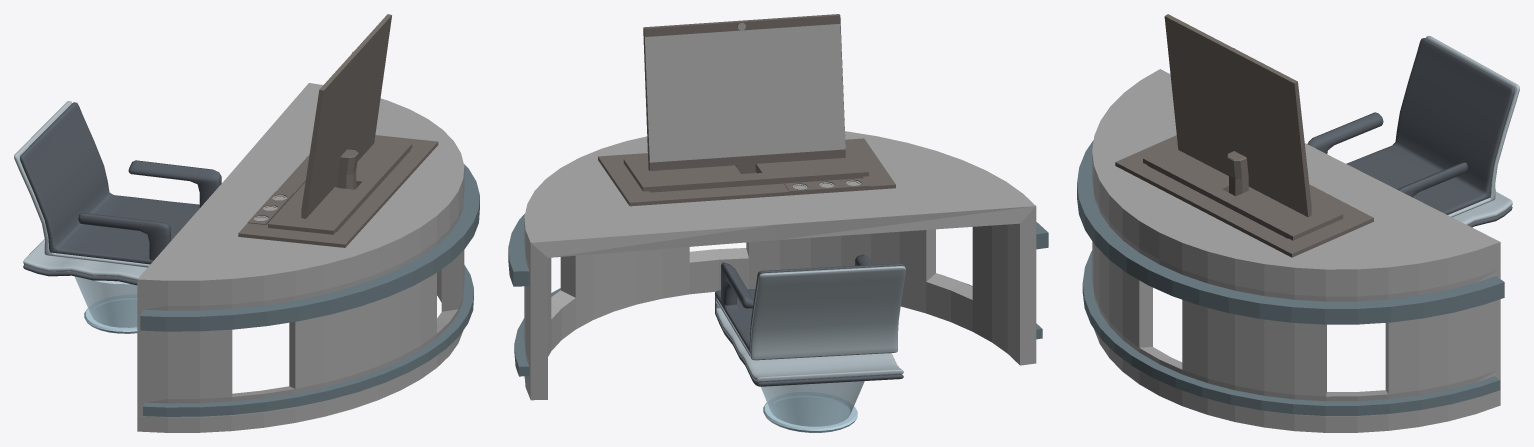
Rendered from table.fbx.
The picture shows the model from 3 angles, left to right: view 1: azimuth 30°, elevation 25°; view 2: azimuth 150°, elevation 25°; view 3: azimuth 270°, elevation 25°; orthographic projection. The views are drawn at different scales.
Visible parts, largest first — view 1: pCylinder16, polySurface5, pCube37, pCube36, pCube38, polySurface4, pCylinder17; view 2: pCylinder16, pCube37, polySurface4, pCube38, pCube36, pCylinder17, polySurface5; view 3: pCylinder16, pCube37, polySurface5, pCube38, pCube36, polySurface4.
Boxes of the visible parts, <box> form: pCylinder16: <box>137,83,479,432</box>; polySurface5: <box>20,102,221,285</box>; pCube37: <box>301,14,391,218</box>; pCube36: <box>238,135,438,247</box>; pCube38: <box>268,139,412,234</box>; polySurface4: <box>14,101,149,280</box>; pCylinder17: <box>74,276,137,333</box>; pCylinder16: <box>508,131,1048,400</box>; pCube37: <box>643,14,845,173</box>; polySurface4: <box>715,266,905,381</box>; pCube38: <box>623,143,868,192</box>; pCube36: <box>598,138,895,206</box>; pCylinder17: <box>761,381,864,432</box>; polySurface5: <box>715,254,904,386</box>; pCylinder16: <box>1077,69,1504,432</box>; pCube37: <box>1164,14,1311,217</box>; polySurface5: <box>1307,38,1514,227</box>; pCube38: <box>1143,143,1343,240</box>; pCube36: <box>1115,135,1373,257</box>; polySurface4: <box>1426,36,1519,225</box>.
Size of the model in its own units: 40.74 by 28.54 by 36.29.
